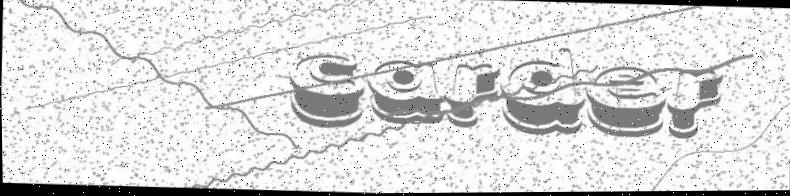a: (366, 58, 446, 127)
c: (285, 52, 368, 130)
d: (499, 45, 587, 138)
e: (585, 64, 667, 140)
r: (665, 67, 725, 142), (444, 62, 502, 130)
